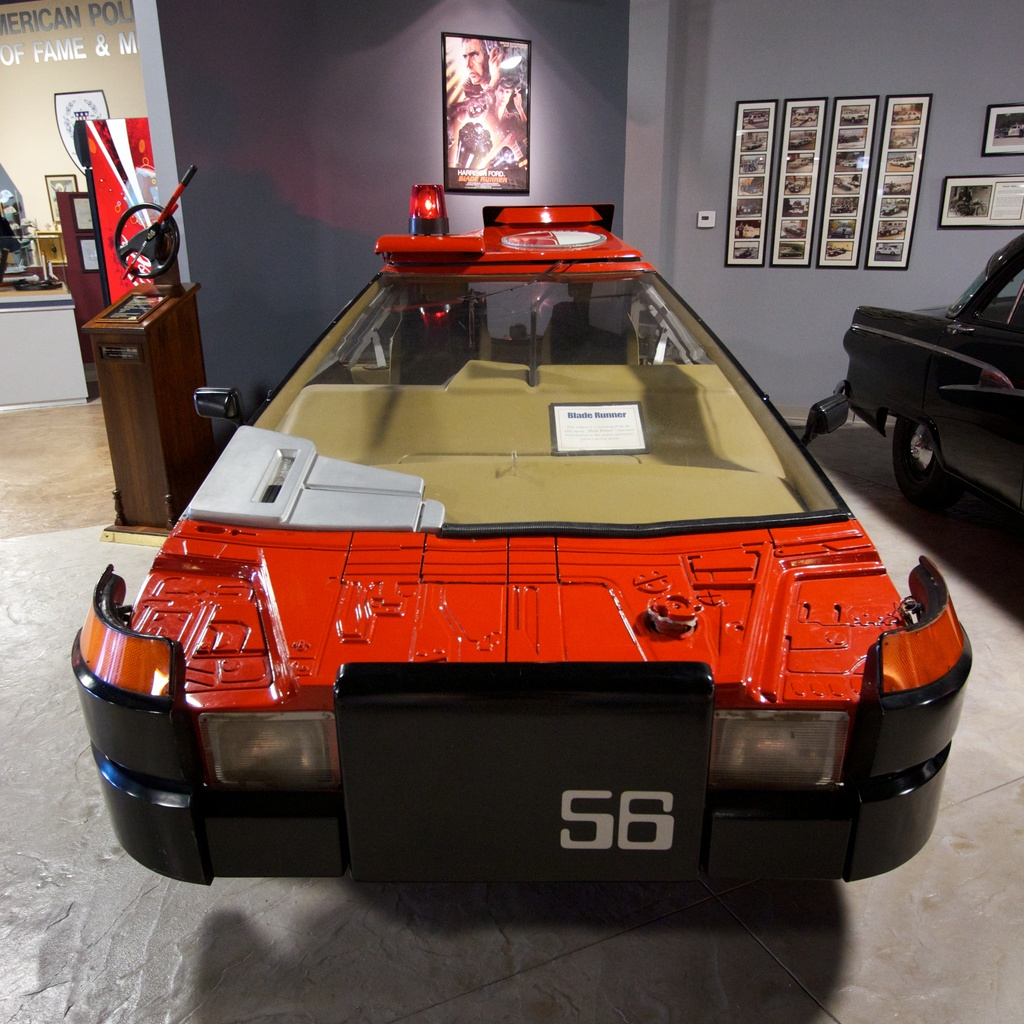cars: (68, 189, 973, 892), (809, 226, 1023, 532)
